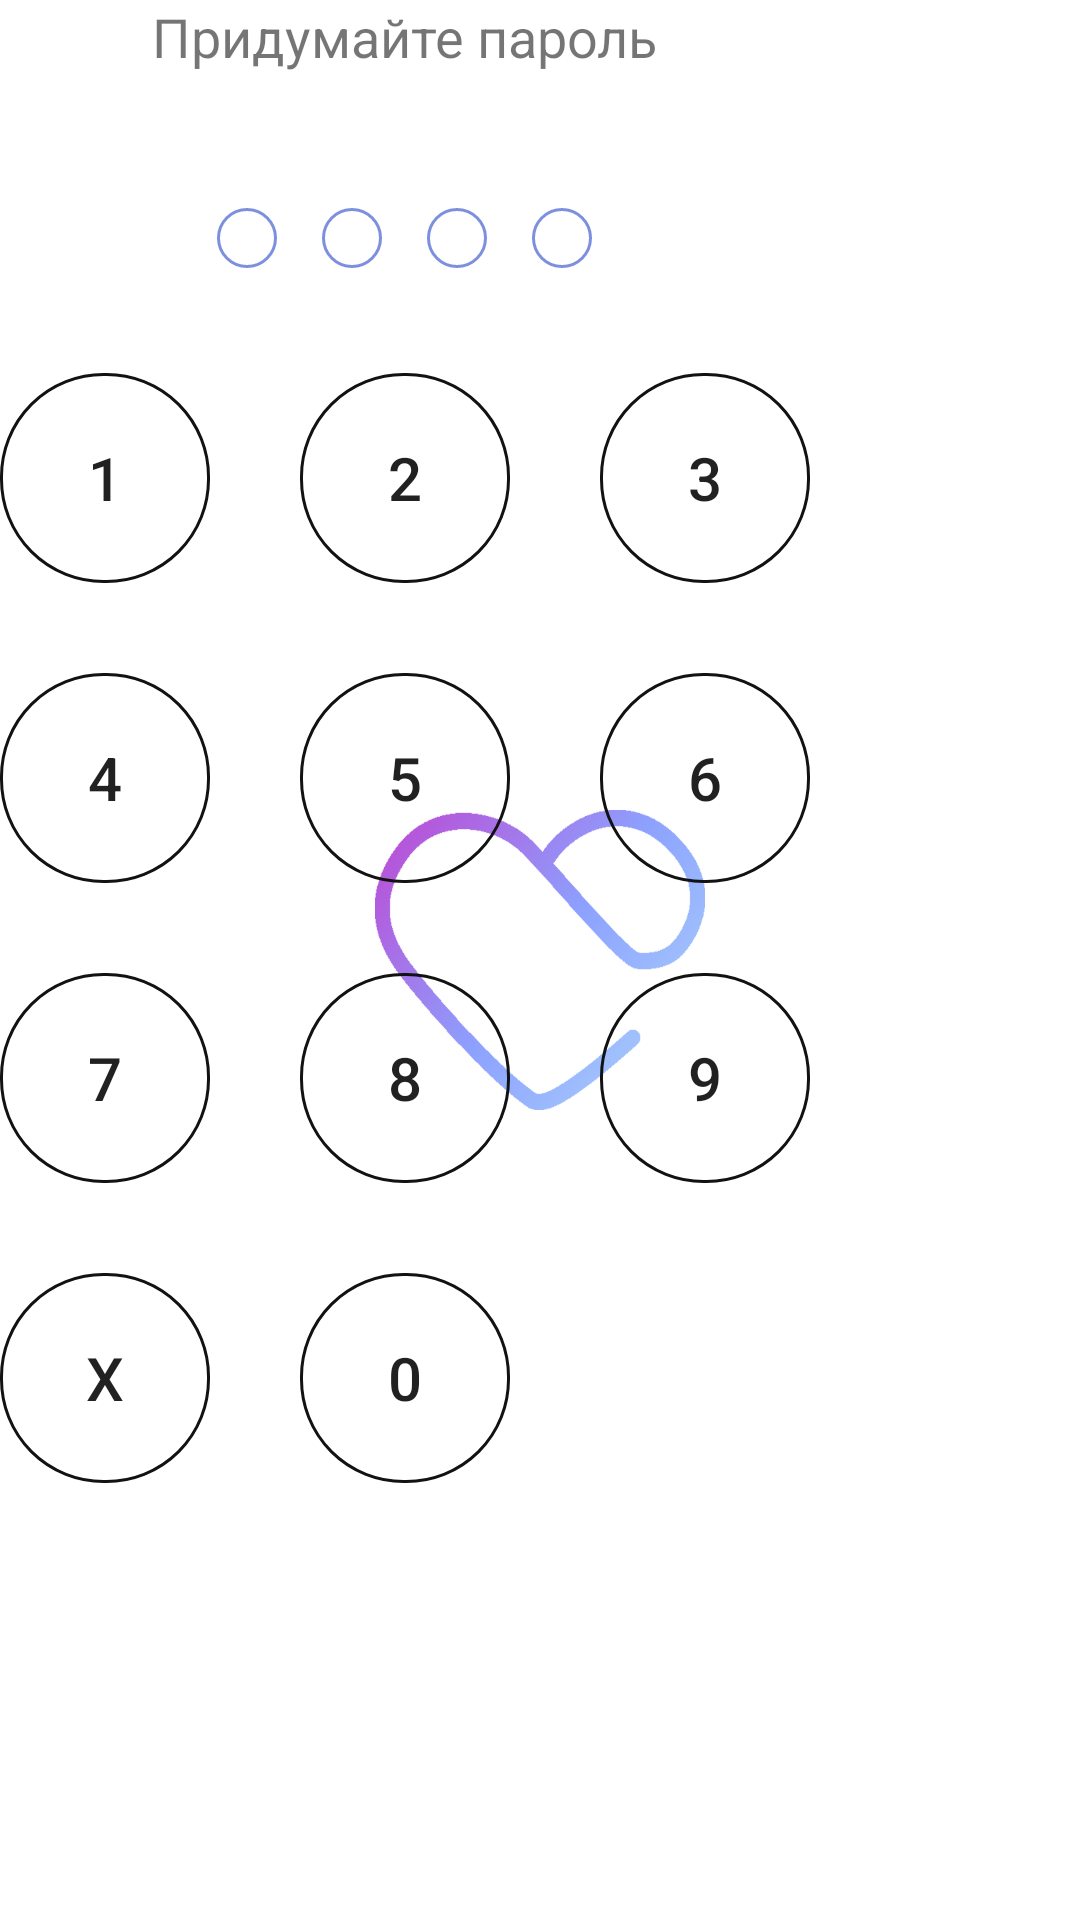

Icons on this 1080x1920 Android screen, each with its box as (x1, y1, x2, y2):
password point: (217, 208, 277, 268), (322, 208, 382, 268), (427, 208, 487, 268), (532, 208, 592, 268)
